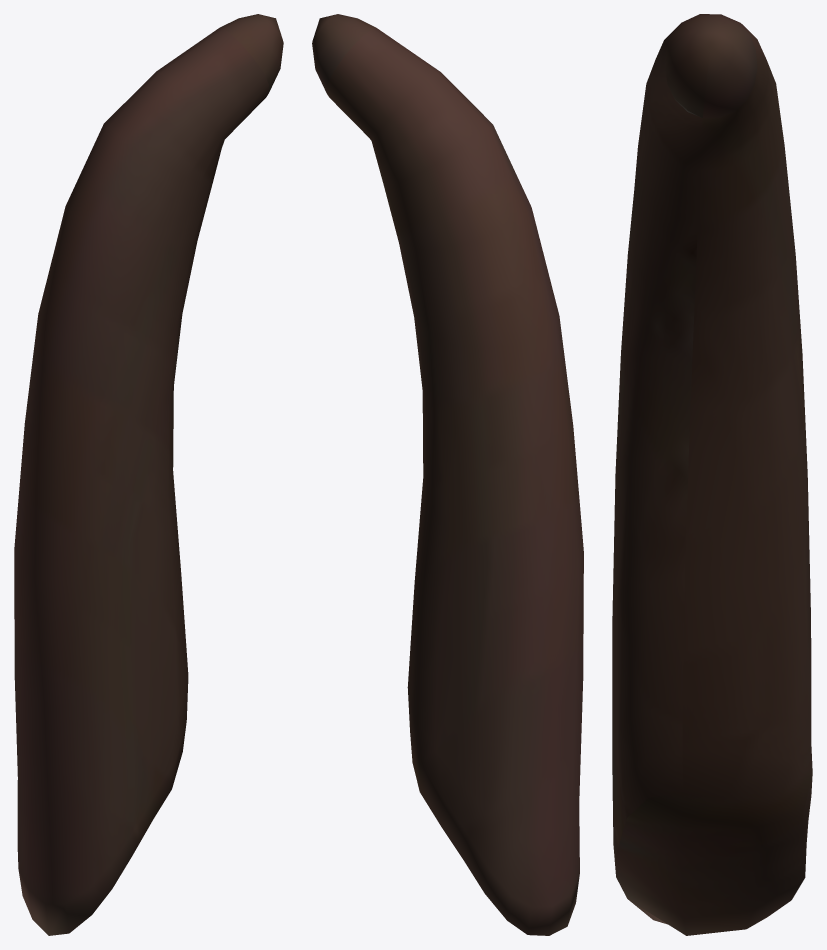
The model's file is Horse_Tail_0.FBX.
3 renders of one model, left to right at view 1: azimuth 30°, elevation 25°; view 2: azimuth 150°, elevation 25°; view 3: azimuth 270°, elevation 25°, orthographic. The views are drawn at different scales.
Parts seen in each view (by area): view 1: Horse_Tail_0; view 2: Horse_Tail_0; view 3: Horse_Tail_0.
Boxes of the visible parts, x1,y1,x2,y2 form: Horse_Tail_0: [14, 14, 283, 935]; Horse_Tail_0: [312, 14, 583, 935]; Horse_Tail_0: [612, 14, 812, 935].
Size of the model in its own units: 0.4619 by 1.5 by 0.2644.
